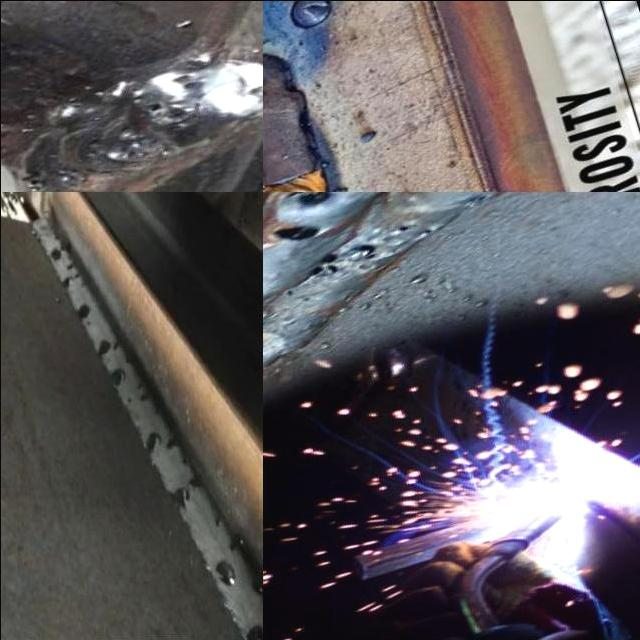defect: (262, 221, 324, 244), (141, 99, 200, 123), (304, 250, 343, 279), (279, 192, 335, 209), (164, 71, 207, 92), (166, 484, 194, 516), (214, 554, 238, 589), (59, 260, 85, 290), (348, 243, 383, 262), (94, 336, 120, 359), (73, 300, 92, 329), (142, 428, 161, 452), (109, 363, 124, 389), (243, 620, 262, 640), (227, 530, 245, 551), (164, 435, 181, 452), (48, 245, 65, 262), (135, 379, 147, 402), (464, 194, 487, 206), (186, 473, 201, 490), (250, 578, 262, 596), (279, 287, 294, 298), (211, 512, 221, 528), (293, 293, 310, 302), (394, 225, 410, 232), (178, 455, 188, 465), (124, 396, 133, 406), (421, 228, 431, 234)
